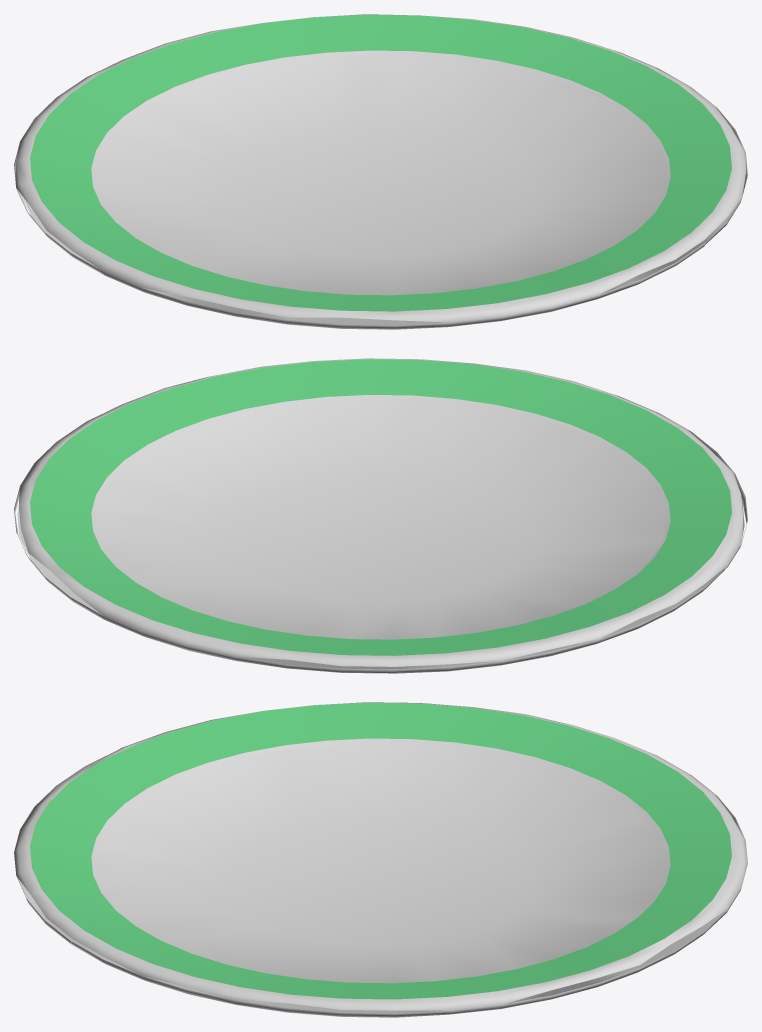
File: J_PlateA_LOD1.obj
3 renders of one model, top to bottom at view 1: azimuth 30°, elevation 25°; view 2: azimuth 150°, elevation 25°; view 3: azimuth 270°, elevation 25°, orthographic.
Visible parts, largest first — view 1: J_PlateA_m0, J_PlateA_m1; view 2: J_PlateA_m0, J_PlateA_m1; view 3: J_PlateA_m0, J_PlateA_m1.
Boxes of the visible parts, bbox=[...] form: J_PlateA_m0: bbox=[14, 14, 747, 329]; J_PlateA_m1: bbox=[30, 14, 731, 311]; J_PlateA_m0: bbox=[14, 358, 747, 673]; J_PlateA_m1: bbox=[30, 359, 731, 655]; J_PlateA_m0: bbox=[14, 702, 747, 1017]; J_PlateA_m1: bbox=[30, 702, 731, 999].
Size of the model in its own units: 0.2897 by 0.0192 by 0.2898.
